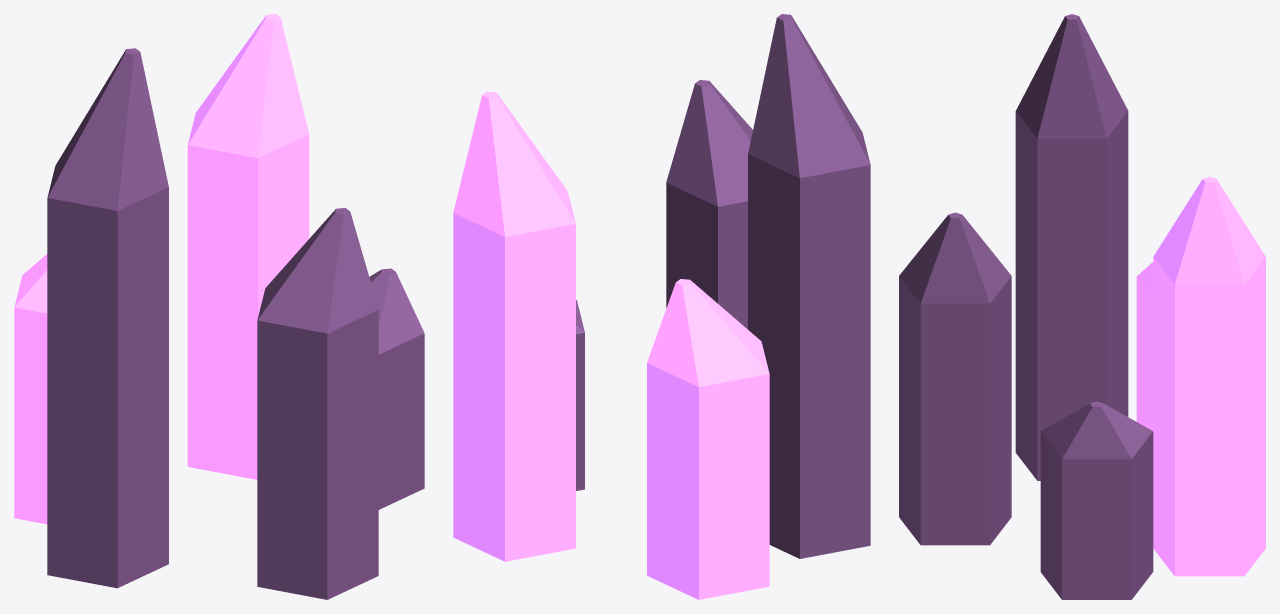
File: Nature_PrismBloom_Crystals.glb
3 renders of one model, left to right at view 1: azimuth 30°, elevation 25°; view 2: azimuth 150°, elevation 25°; view 3: azimuth 270°, elevation 25°, orthographic. The views are drawn at different scales.
Parts seen in each view (by area): view 1: Nature_PrismBloom_Crystals; view 2: Nature_PrismBloom_Crystals; view 3: Nature_PrismBloom_Crystals.
Boxes of the visible parts, x1=… form: Nature_PrismBloom_Crystals: x1=14, y1=14, x2=424, y2=599; Nature_PrismBloom_Crystals: x1=453, y1=14, x2=870, y2=599; Nature_PrismBloom_Crystals: x1=899, y1=14, x2=1265, y2=599.
Bounding box in the file's own units: 1.31 × 1.7 × 1.24.
